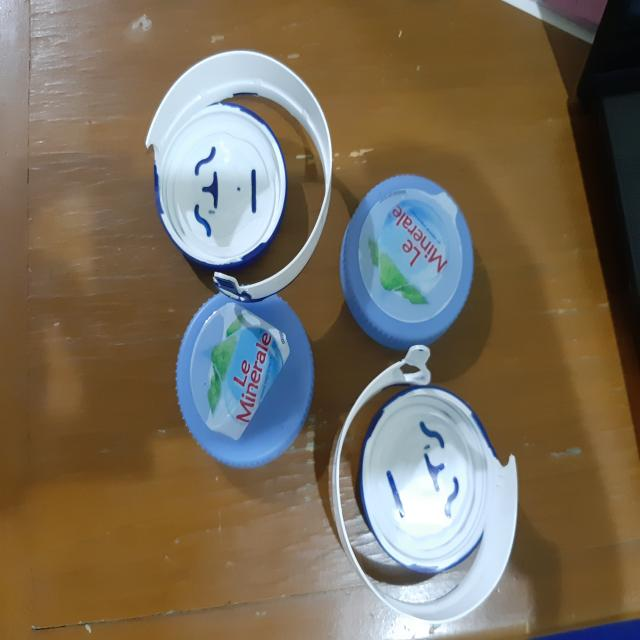TutupGalon: (133, 29, 324, 307), (326, 367, 523, 626), (339, 163, 482, 355), (175, 284, 315, 472)
